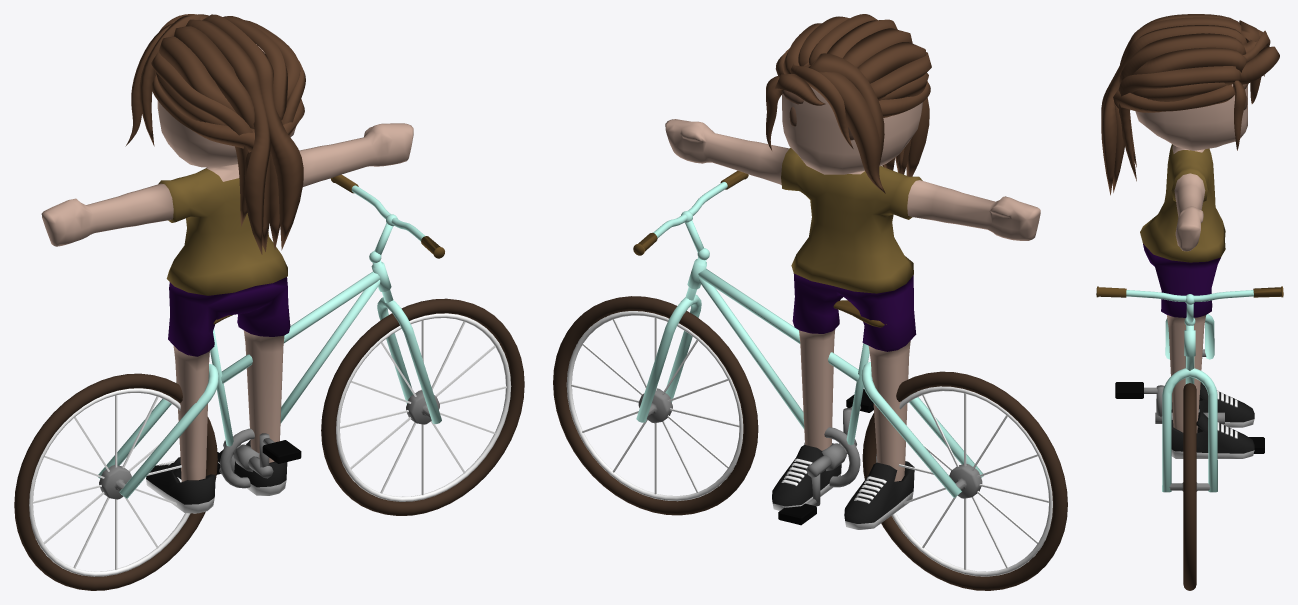
The model's file is armature_character_and_bicycle.glb.
3 views of the same model, side by side, from view 1: azimuth 30°, elevation 25°; view 2: azimuth 150°, elevation 25°; view 3: azimuth 270°, elevation 25° (orthographic). The views are drawn at different scales.
Visible parts, largest first — view 1: Body.002, FrontWheel, BackWheel, Frame, HandleBar, PedalRotor, RightPedal; view 2: Body.002, FrontWheel, BackWheel, Frame, HandleBar, PedalRotor; view 3: Body.002, HandleBar, FrontWheel, Frame, PedalRotor, RightPedal.
Boxes of the visible parts, box(x1,y1,x2,y2) form: Body.002: box(41, 14, 413, 513); FrontWheel: box(321, 298, 524, 515); BackWheel: box(14, 373, 217, 590); Frame: box(98, 271, 380, 498); HandleBar: box(330, 174, 444, 424); PedalRotor: box(219, 433, 274, 478); RightPedal: box(262, 440, 301, 463); Body.002: box(665, 14, 1040, 529); FrontWheel: box(553, 296, 758, 515); BackWheel: box(862, 371, 1067, 590); Frame: box(698, 268, 983, 497); HandleBar: box(633, 170, 748, 422); PedalRotor: box(806, 406, 860, 506); Body.002: box(1101, 14, 1279, 458); HandleBar: box(1096, 286, 1283, 492); FrontWheel: box(1169, 383, 1210, 590); Frame: box(1165, 314, 1214, 384); PedalRotor: box(1144, 385, 1224, 427); RightPedal: box(1115, 382, 1143, 398).
Size of the model in its own units: 6.95 by 6.92 by 2.47.
Materials: 8 (1 with a texture image).
